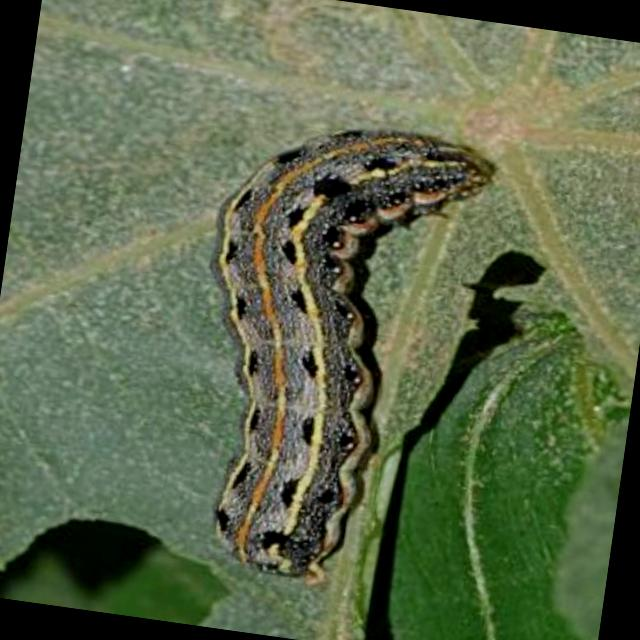Tobacco cutworm: (162, 74, 542, 610)
